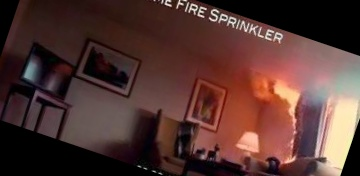fire: (231, 55, 331, 157)
